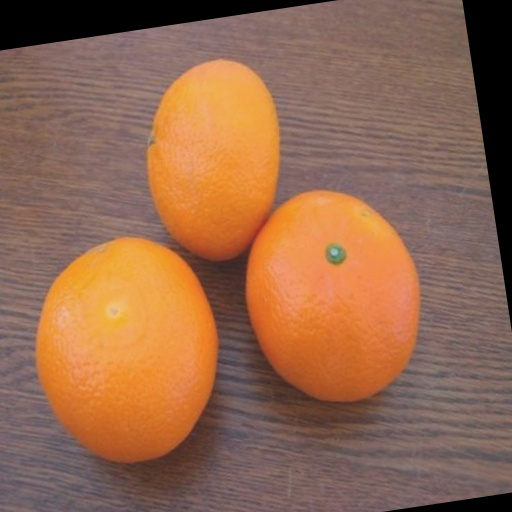fruit: (35, 238, 217, 462), (246, 191, 418, 401), (147, 60, 279, 261)
